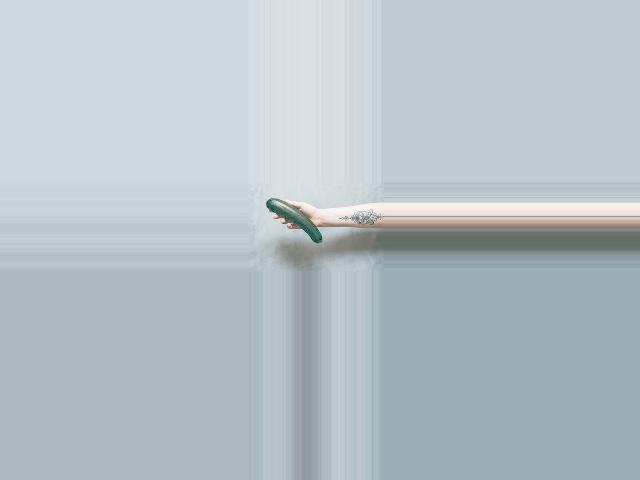cucumber: (265, 198, 321, 243)
